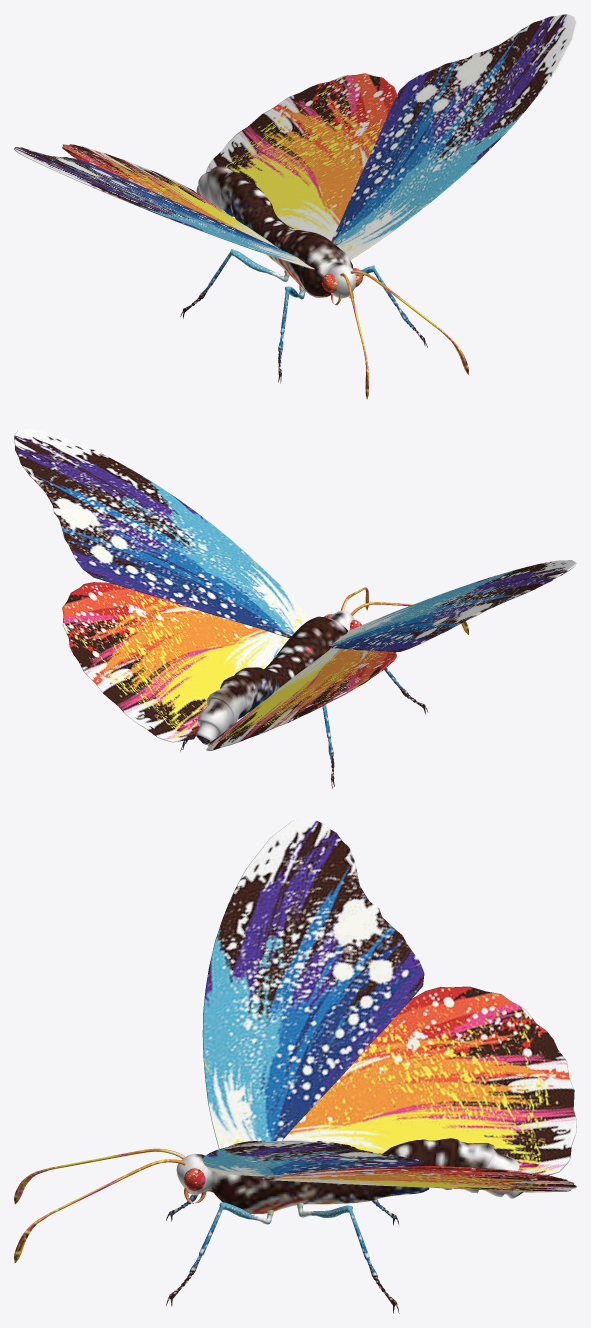
3 renders of one model, top to bottom at view 1: azimuth 30°, elevation 25°; view 2: azimuth 150°, elevation 25°; view 3: azimuth 270°, elevation 25°, orthographic. The views are drawn at different scales.
Visible parts, largest first — view 1: node_8aac1335_1633_4cd3_aebf_3bcf99ba5280_mesh0; view 2: node_8aac1335_1633_4cd3_aebf_3bcf99ba5280_mesh0; view 3: node_8aac1335_1633_4cd3_aebf_3bcf99ba5280_mesh0.
Part boxes in pixels (x1=…): node_8aac1335_1633_4cd3_aebf_3bcf99ba5280_mesh0: x1=14, y1=14, x2=576, y2=399; node_8aac1335_1633_4cd3_aebf_3bcf99ba5280_mesh0: x1=14, y1=428, x2=576, y2=788; node_8aac1335_1633_4cd3_aebf_3bcf99ba5280_mesh0: x1=14, y1=818, x2=576, y2=1313.
Bounding box in the file's own units: 0.0012 × 0.000505 × 0.000887.
1 material, 1 textured.
